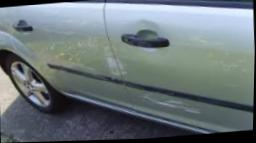Door: (125, 80, 222, 127), (93, 34, 132, 84)
